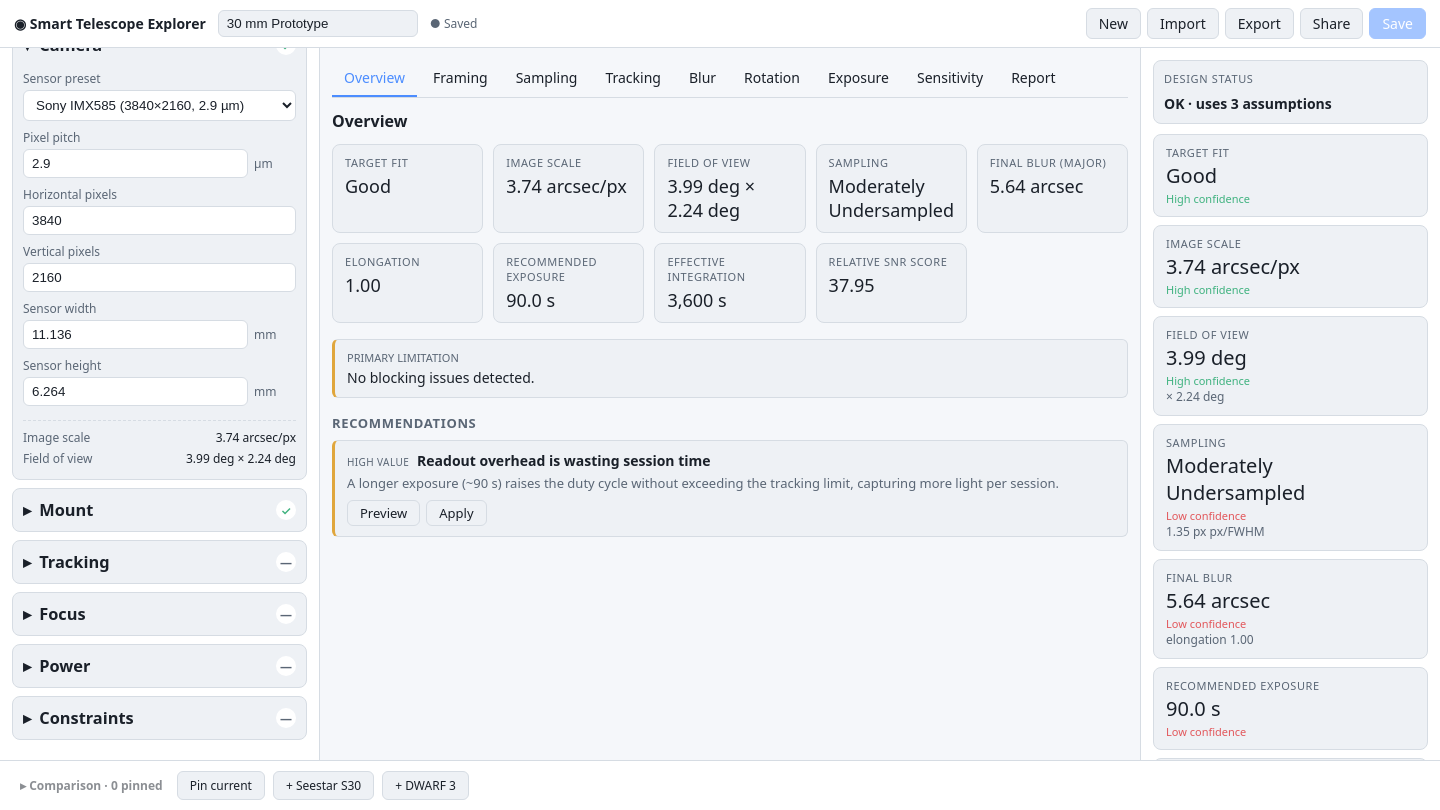
Test case: focus section (#7, v0.4 §11) › computes the critical focus zone from the optics
(page scrolled)
Click the button "▸ Focus —" at (62,614), box [13,593,306,635]
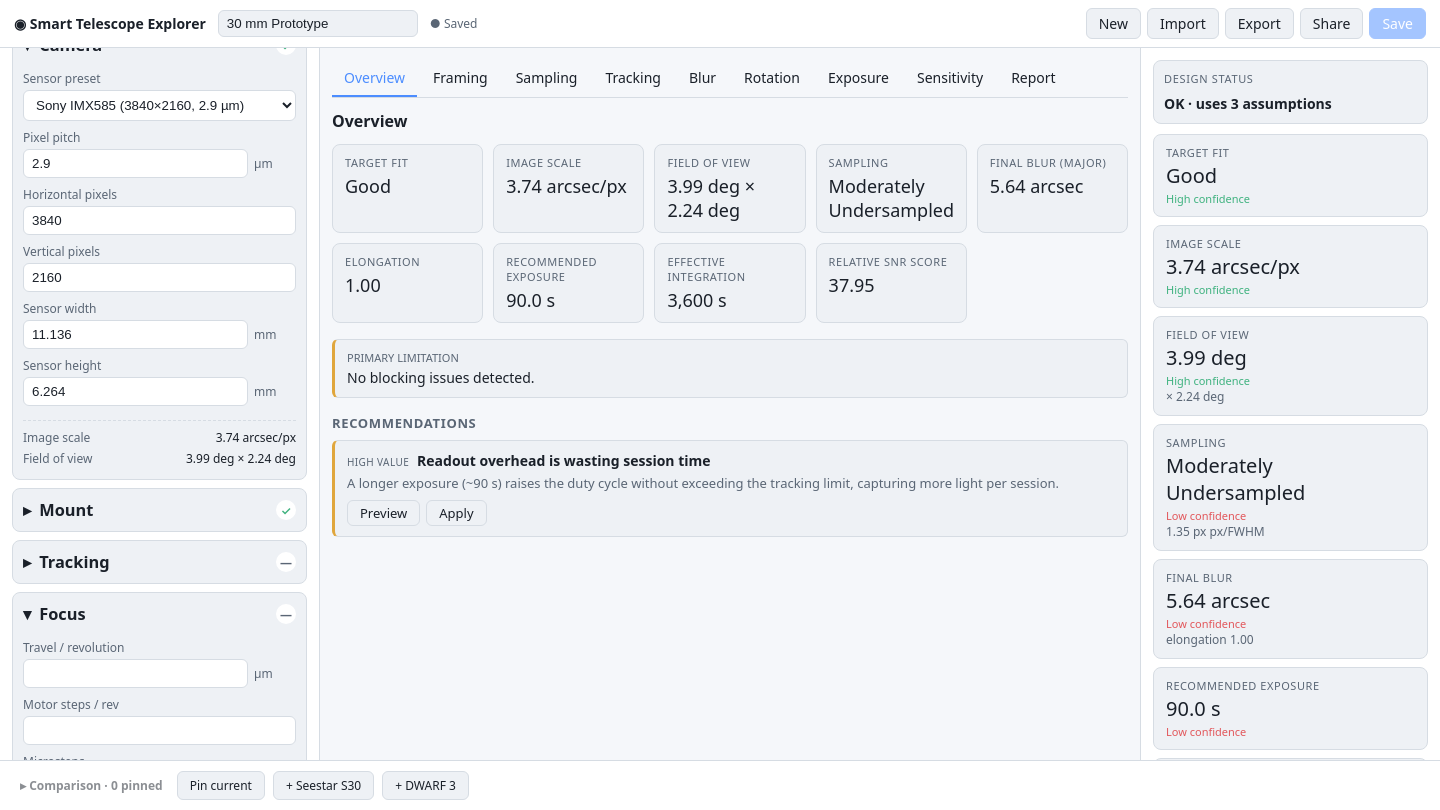
Type "400" into the number field labelled "Travel / revolution µm" at (136,674), box [23,659,248,688]
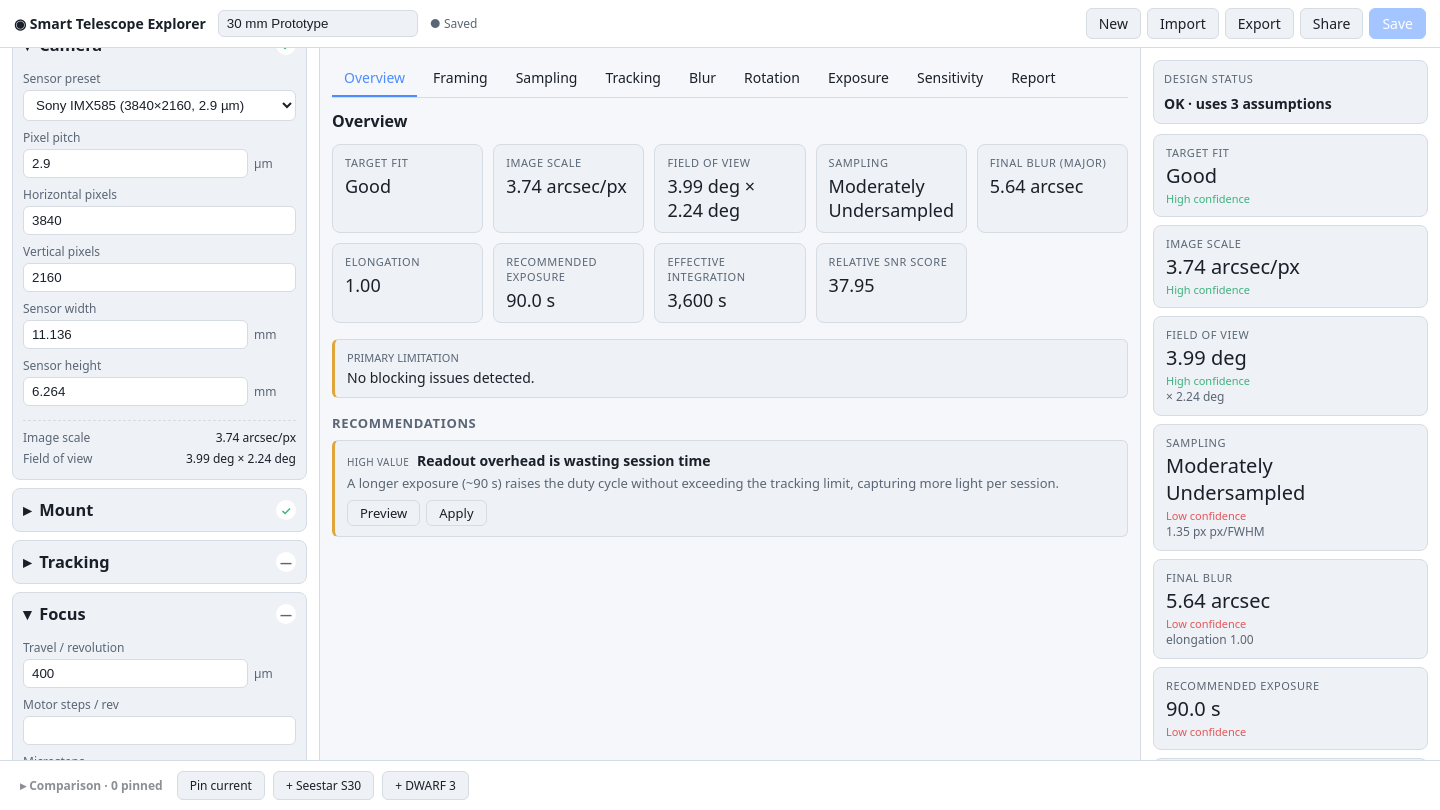
Leave the number field labelled "Travel / revolution µm", box [23,659,248,688]
(page scrolled)
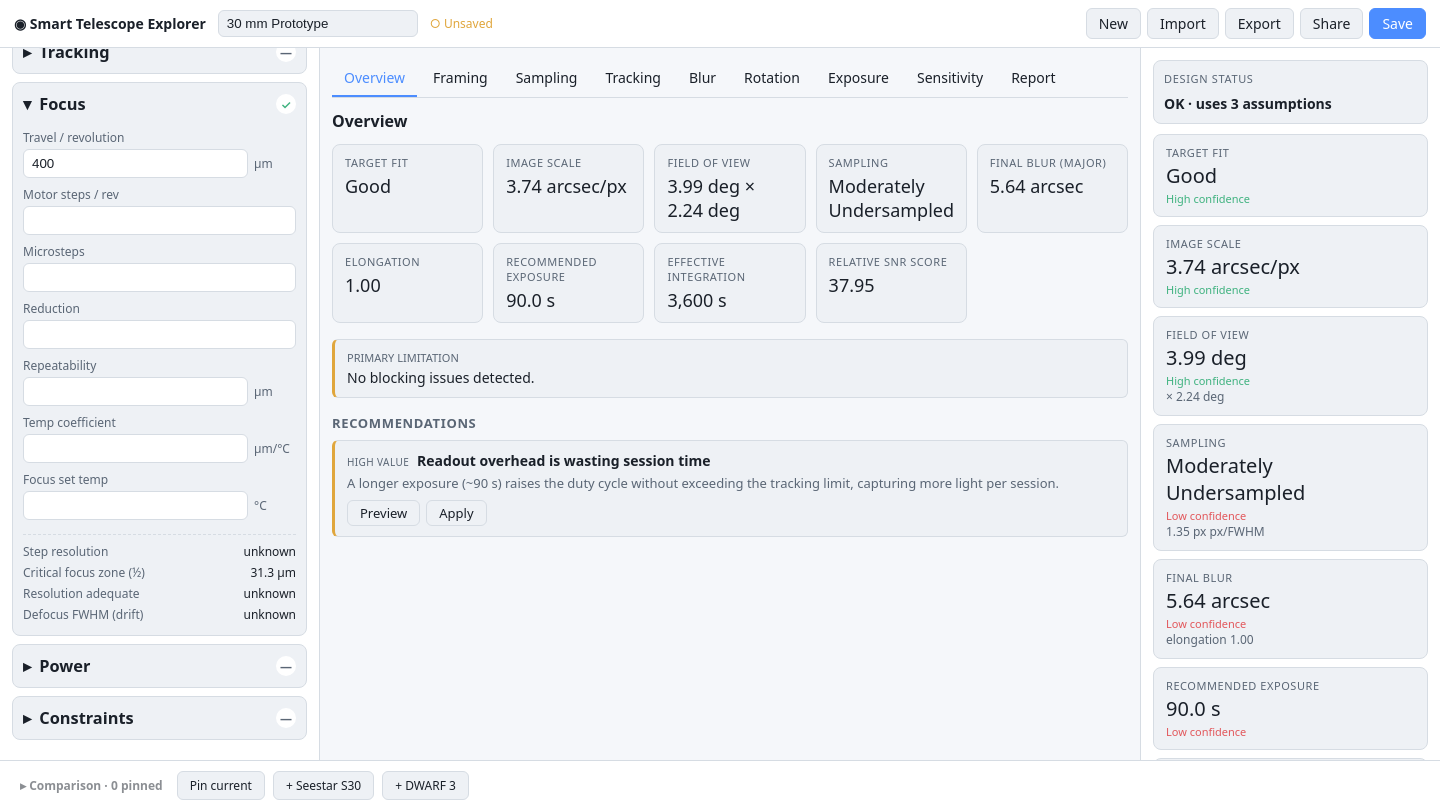
Expected: the text "31.3 µm" is shown, [250,564,296,581]
